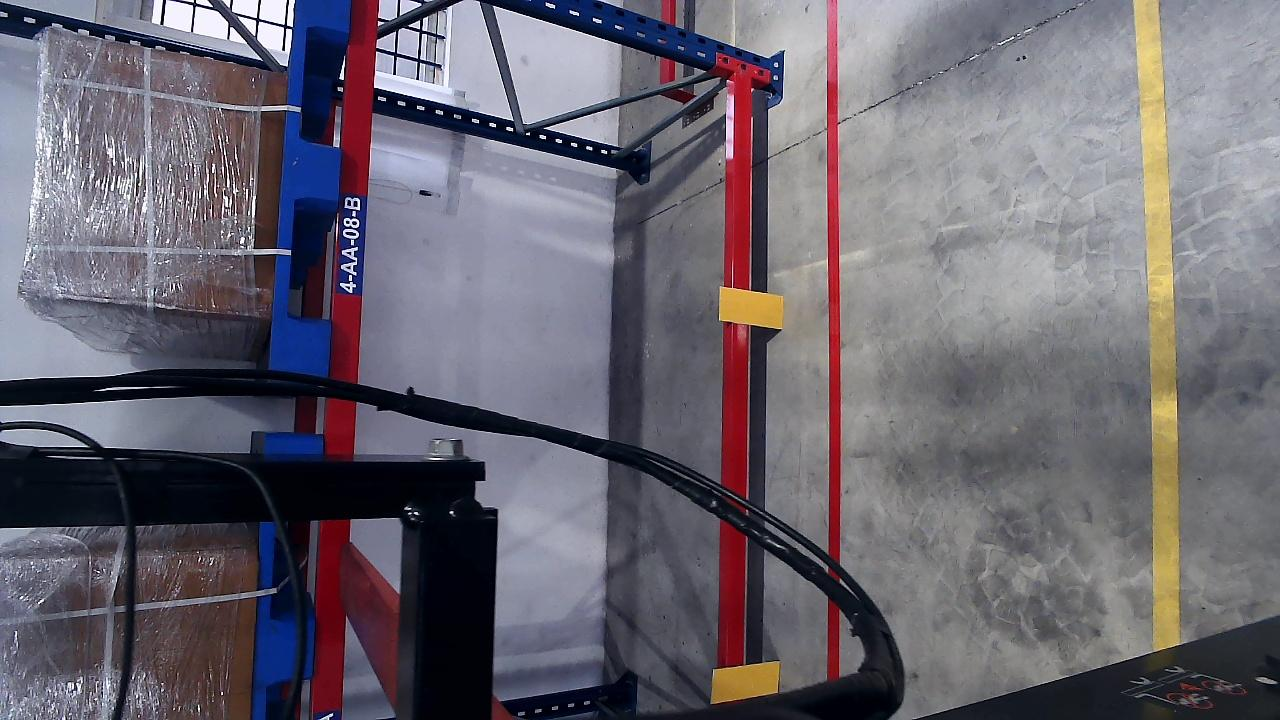h_rack: (306, 0, 382, 720), (724, 68, 759, 718)
orange_strip: (711, 661, 780, 702), (719, 285, 784, 328)
red_line: (820, 0, 842, 683)
small_pallet: (270, 1, 351, 373)
yellow_line: (1135, 0, 1181, 649)
